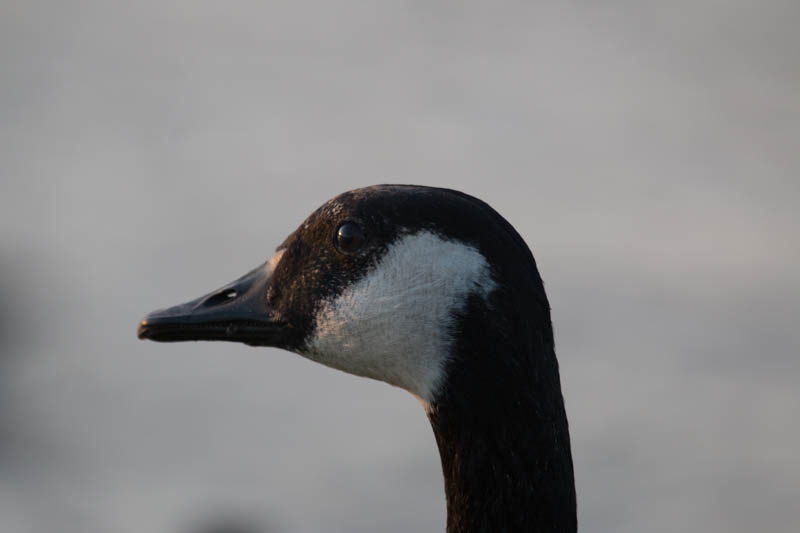goose-head: (135, 183, 554, 415)
